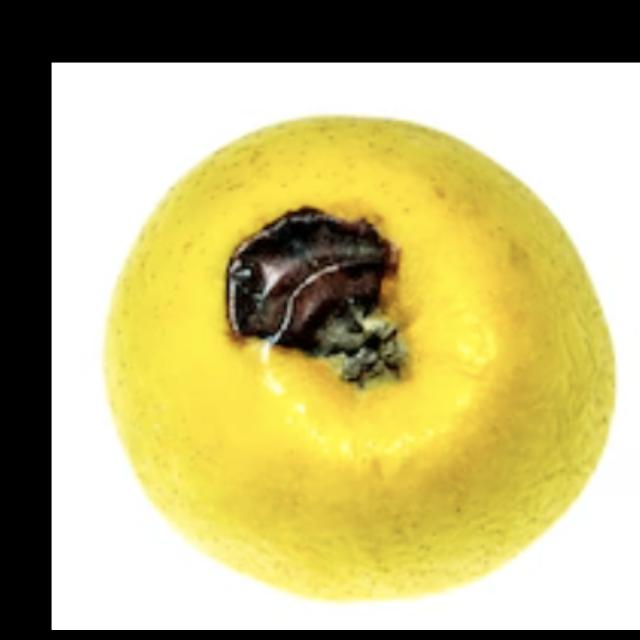Apel Tidak Segar: (104, 115, 614, 598)
